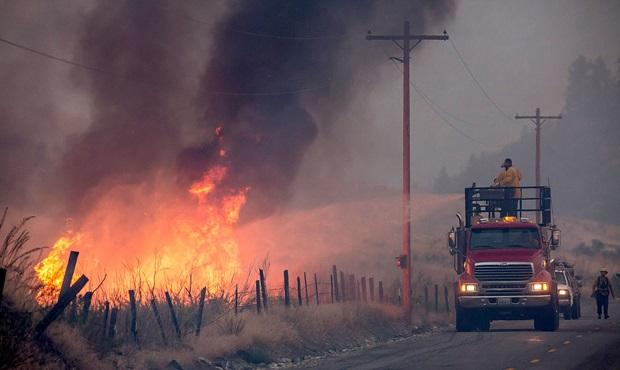fire: (155, 225, 235, 285), (35, 240, 72, 285)
smoke: (228, 17, 323, 139), (93, 23, 170, 135)
